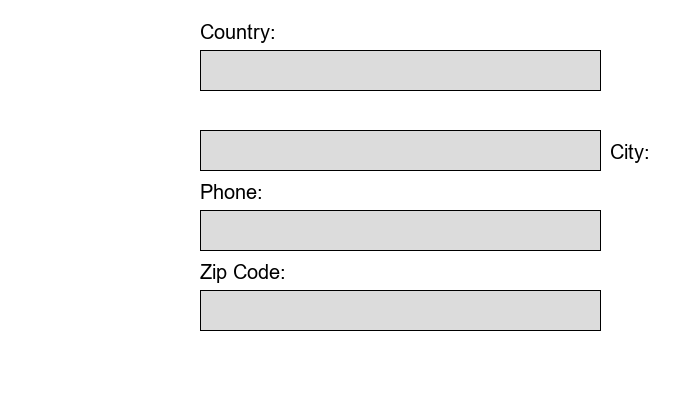Label: (200, 260, 280, 279), (200, 20, 270, 39), (200, 180, 257, 195), (610, 140, 644, 159)
Textbox: (200, 50, 600, 90), (200, 130, 600, 170), (200, 210, 600, 250), (200, 290, 600, 330)
